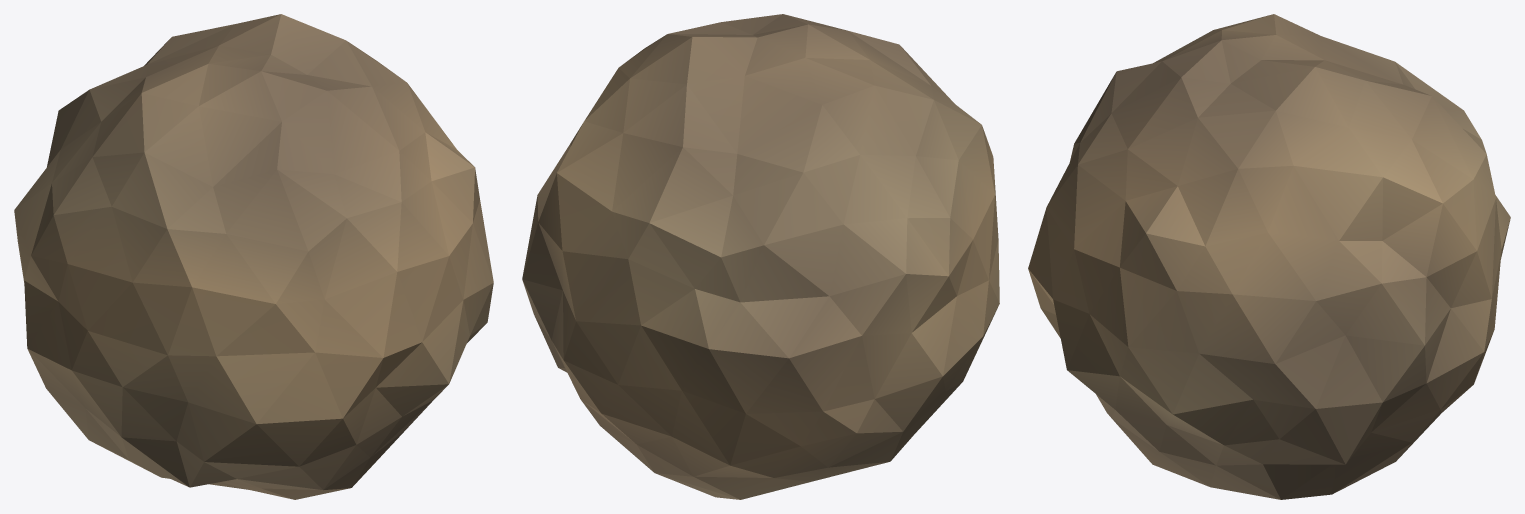
File: Generic_Planets_Planet_Generic_Desert.fbx
3 views of the same model, side by side, from view 1: azimuth 30°, elevation 25°; view 2: azimuth 150°, elevation 25°; view 3: azimuth 270°, elevation 25° (orthographic). The views are drawn at different scales.
Visible parts, largest first — view 1: Planet_Generic_Desert; view 2: Planet_Generic_Desert; view 3: Planet_Generic_Desert.
Part boxes in pixels (x1=…): Planet_Generic_Desert: x1=14, y1=14, x2=493, y2=499; Planet_Generic_Desert: x1=522, y1=14, x2=999, y2=499; Planet_Generic_Desert: x1=1028, y1=14, x2=1510, y2=499.
Bounding box in the file's own units: 19.87 × 20.65 × 20.69.
